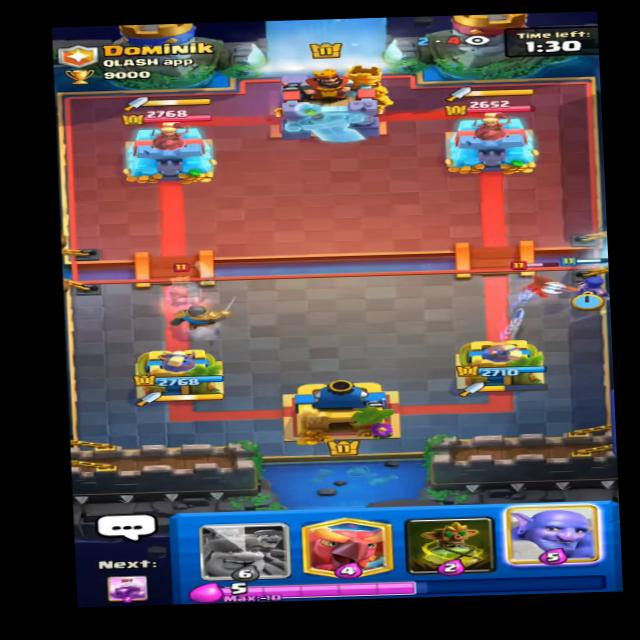bandit: (512, 267, 560, 299)
royal-ghost: (151, 269, 215, 310)
